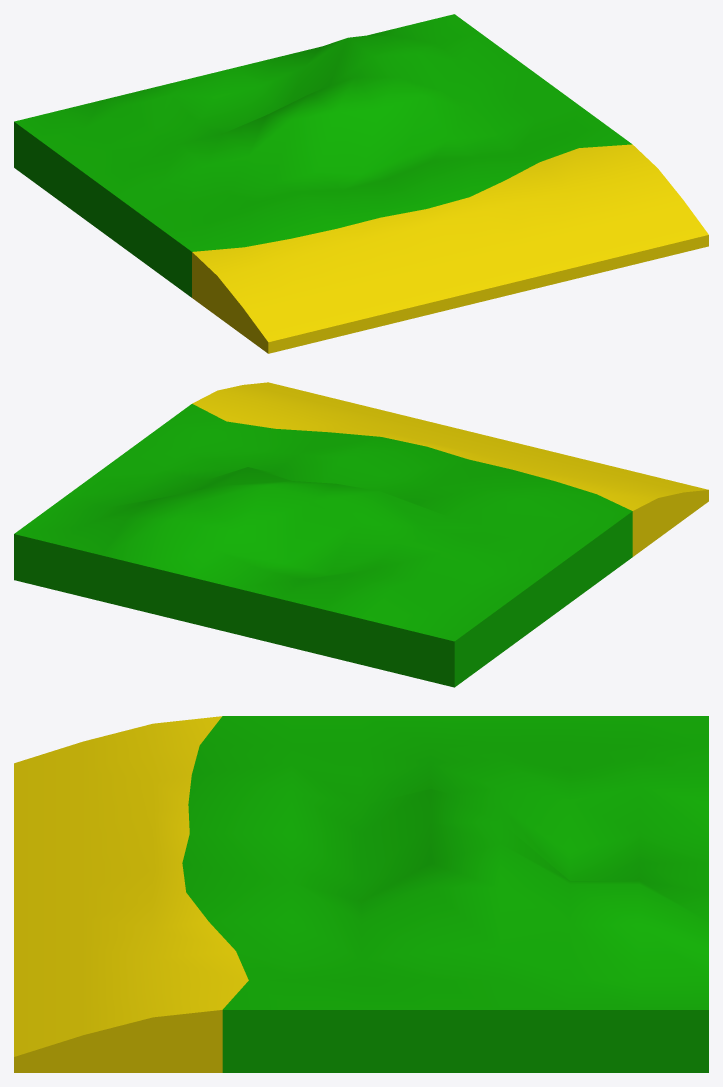
Rendered from island_lateral_01.fbx.
3 renders of one model, top to bottom at view 1: azimuth 30°, elevation 25°; view 2: azimuth 150°, elevation 25°; view 3: azimuth 270°, elevation 25°, orthographic. The views are drawn at different scales.
Visible parts, largest first — view 1: Box001; view 2: Box001; view 3: Box001.
Part boxes in pixels (x1,y1,x2,y2): Box001: [14, 14, 708, 353]; Box001: [14, 382, 708, 687]; Box001: [14, 716, 708, 1072].
Bounding box in the file's own units: 400 × 70.82 × 400.
